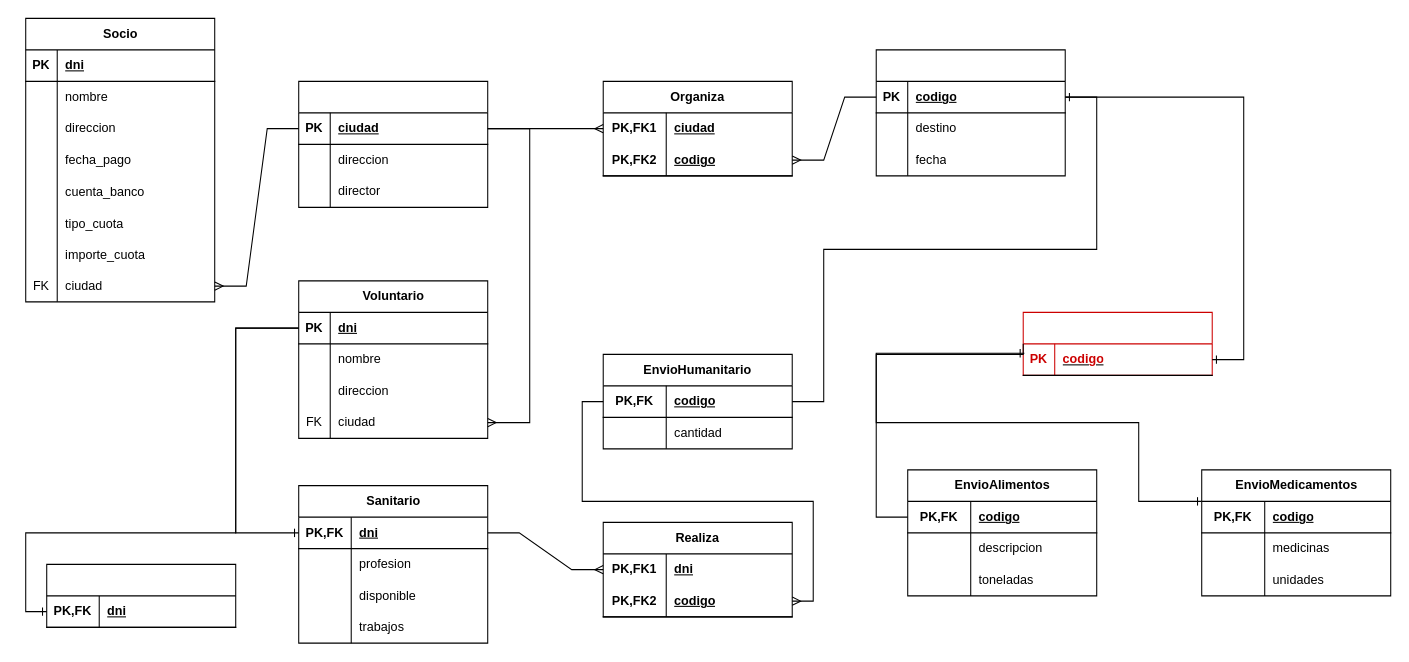
The diagram is 1409 pixels wide and 662 high, and some of its shapes have lost their labels. The shapes that lost their labels are listed below. From the top down, each one's box as (x1, y1, x2, y2) in pixels, then its label:
(875, 49, 1065, 176): Envio
(298, 80, 488, 207): Sede
(1022, 311, 1212, 375): EnvioMaterial
(46, 563, 236, 627): Asociacion
